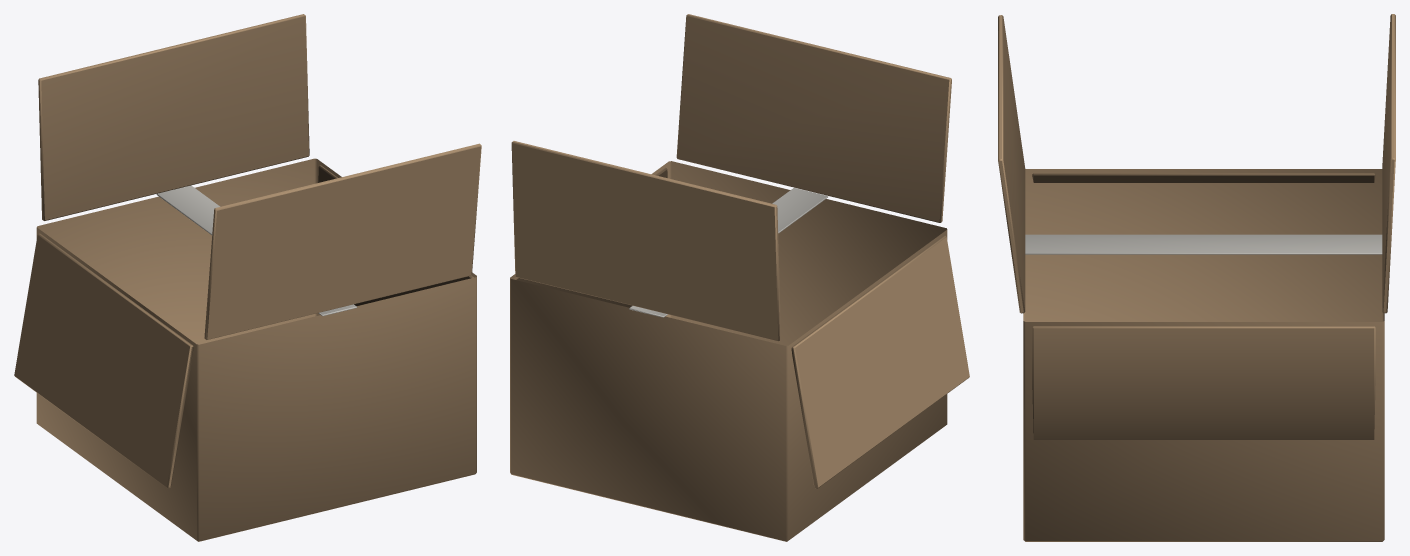
Rendered from cardboard_box.glb.
3 renders of one model, left to right at view 1: azimuth 30°, elevation 25°; view 2: azimuth 150°, elevation 25°; view 3: azimuth 270°, elevation 25°, orthographic. The views are drawn at different scales.
Parts seen in each view (by area): view 1: cardboard_box; view 2: cardboard_box; view 3: cardboard_box.
Part boxes in pixels (x1,y1,x2,y2): cardboard_box: (14, 14, 481, 541); cardboard_box: (510, 14, 969, 541); cardboard_box: (998, 14, 1395, 541).
Bounding box in the file's own units: 0.4403 × 0.4648 × 0.4404.
